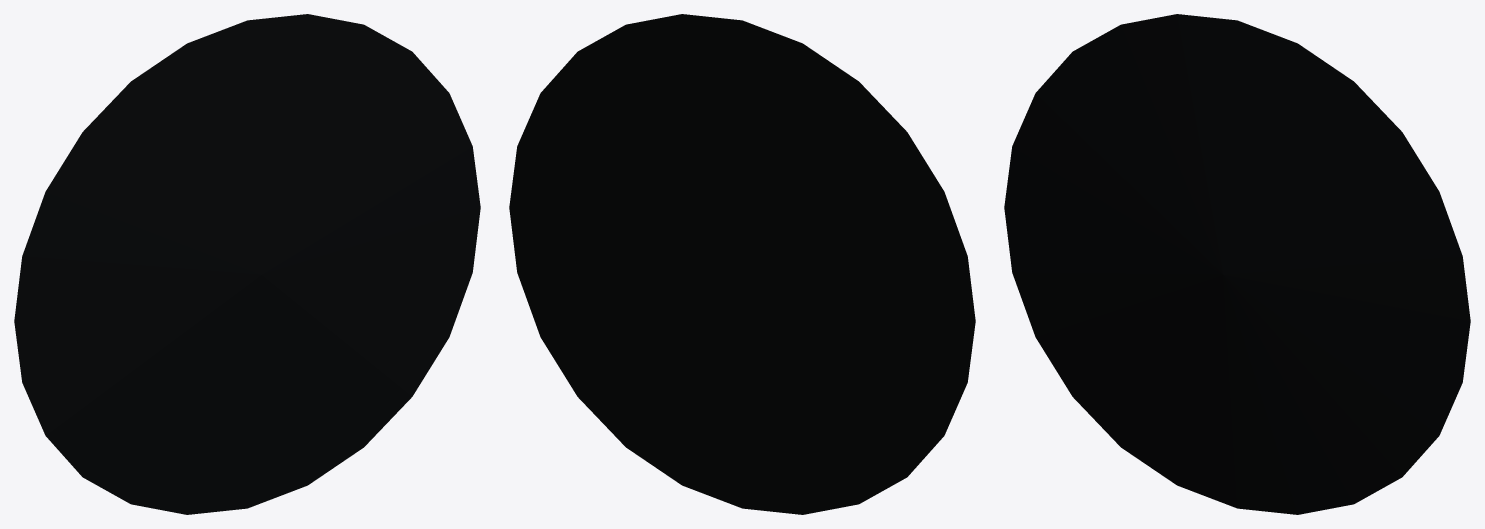
File: Rocket70Seven__EndCap.obj
3 renders of one model, left to right at view 1: azimuth 30°, elevation 25°; view 2: azimuth 150°, elevation 25°; view 3: azimuth 330°, elevation 25°, orthographic.
Visible parts, largest first — view 1: Rear_bulkhead; view 2: Rear_bulkhead; view 3: Rear_bulkhead.
Boxes of the visible parts, bbox=[...] form: Rear_bulkhead: bbox=[14, 14, 480, 514]; Rear_bulkhead: bbox=[509, 14, 975, 514]; Rear_bulkhead: bbox=[1004, 14, 1470, 514].
Size of the model in its own units: 0.5742 by 0.5742 by 0.03.
